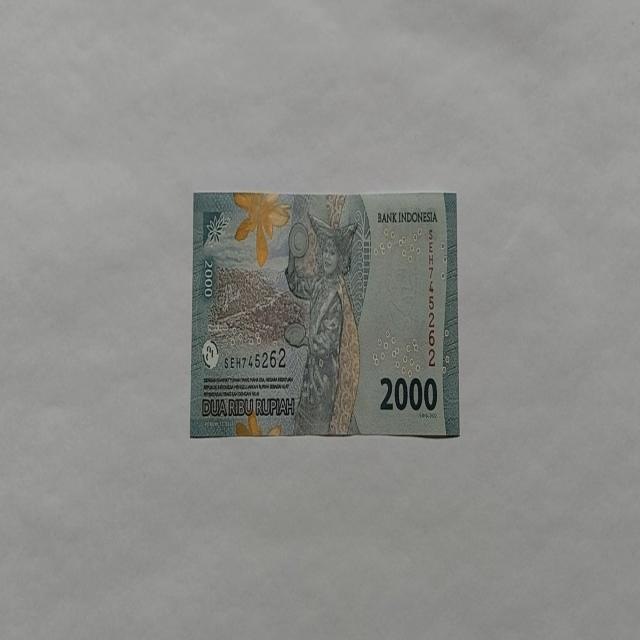dua ribu rupiah: (190, 189, 460, 439), (283, 212, 362, 436), (232, 190, 292, 268)
